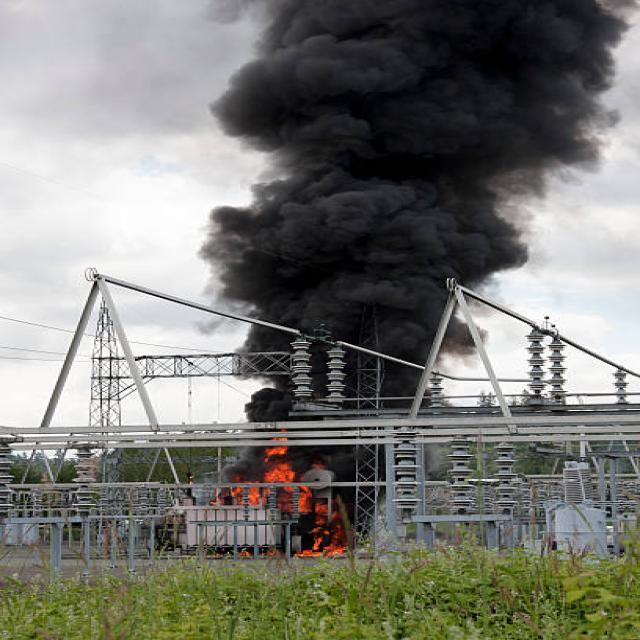Fire: (235, 430, 392, 553)
Smoke: (216, 0, 640, 294), (213, 268, 466, 398)
